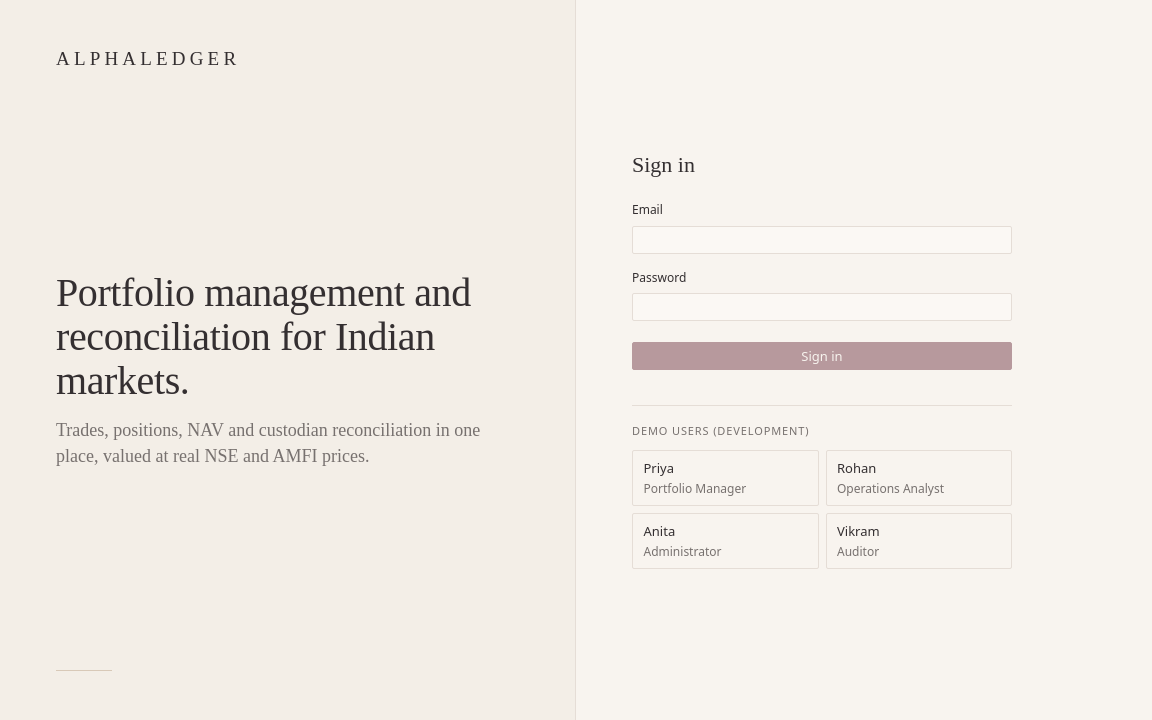
sign-in and the browser session › sends a signed-out user to the login page, then back after signing in with the cookie-mode header
This screenshot has width=1152, height=720.
Expected: the heading "Sign in" is shown, top-left (632, 152), bottom-right (695, 177)
Step 1. Type "priya.pm@alphaledger.test" into the field labelled "Email" → (822, 240), box top-left (632, 226), bottom-right (1012, 254)
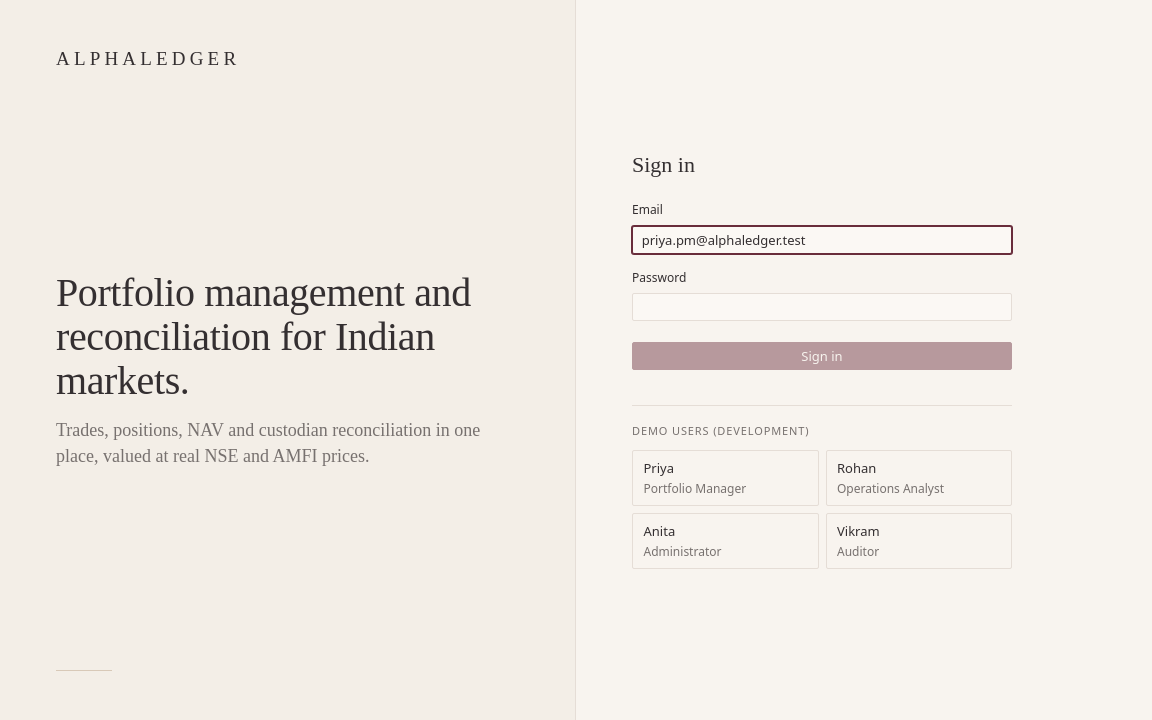
Step 2. Type "Demo@AlphaLedger2026" into the password field labelled "Password" → (822, 307), box top-left (632, 293), bottom-right (1012, 321)
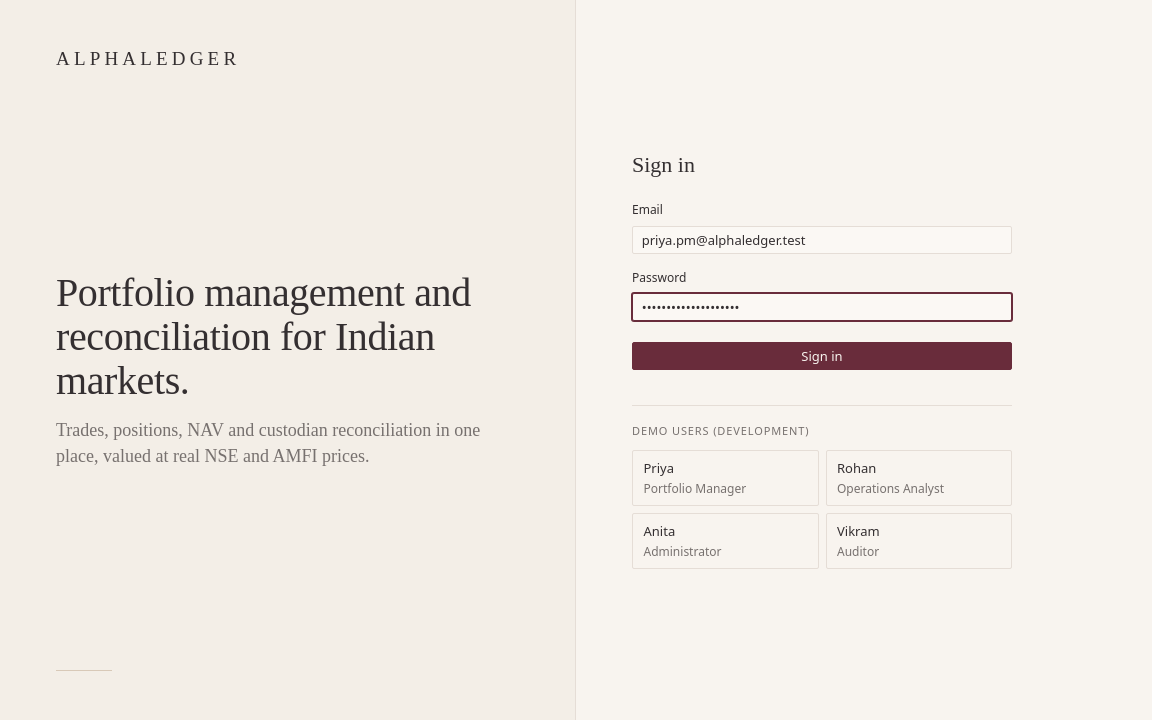
Step 3. Click the button "Sign in" → click(822, 356), box top-left (632, 342), bottom-right (1012, 370)
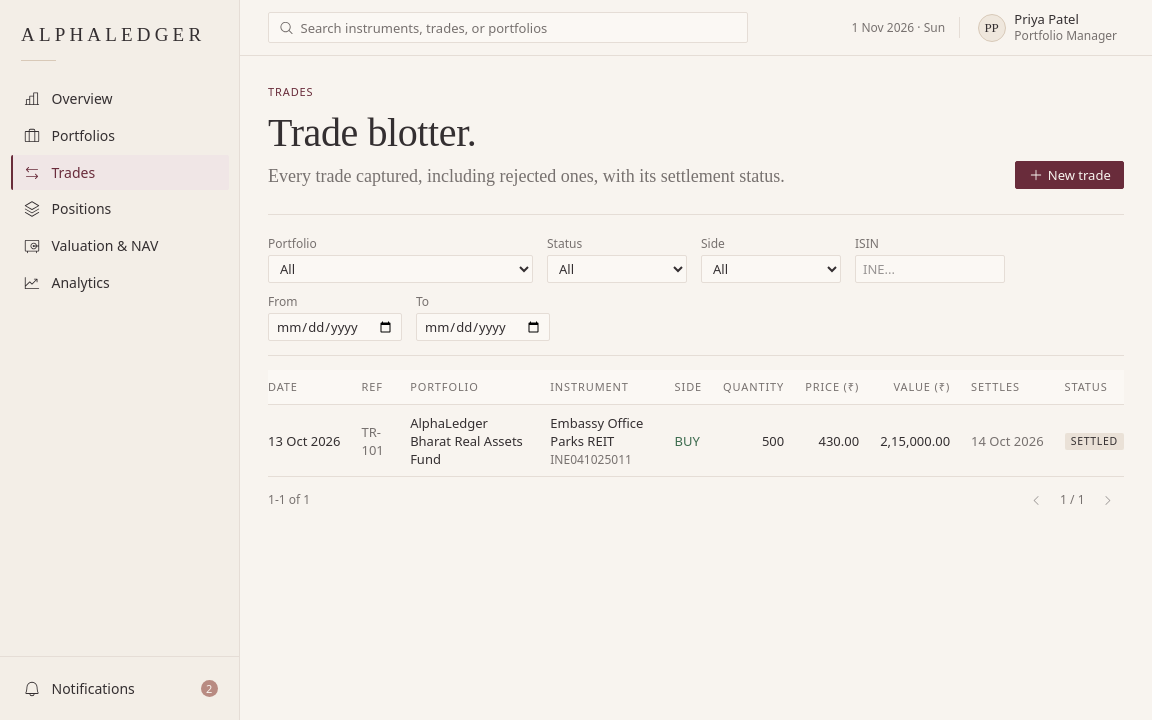
Now the heading "Trade blotter." is shown, box top-left (268, 110), bottom-right (476, 154)
